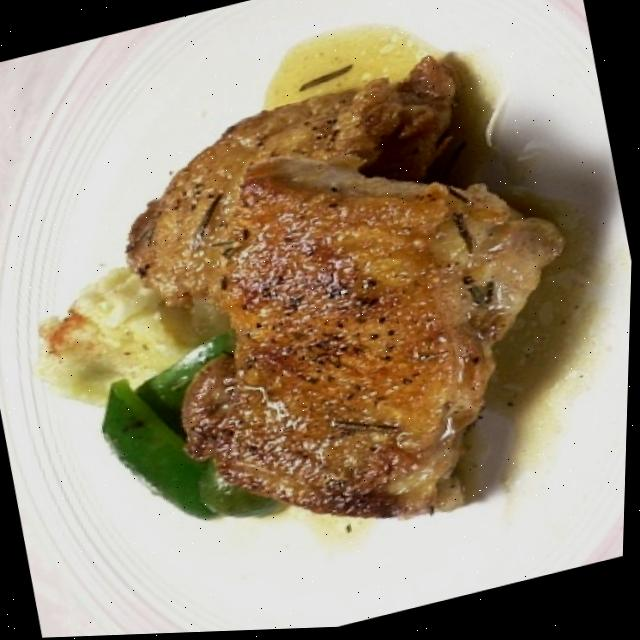鸡肉料理 含炸鸡: (64, 22, 616, 597)
